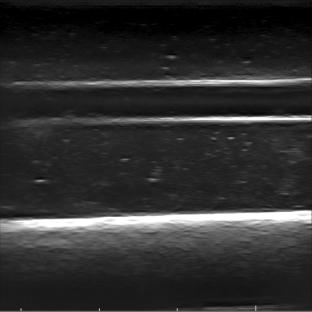vessel: (7, 77, 308, 128)
